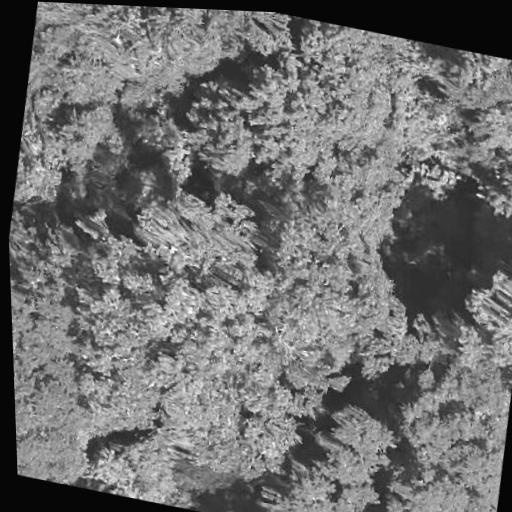tree-top: (257, 190, 430, 422), (233, 10, 420, 191), (111, 247, 274, 426), (52, 2, 253, 115), (118, 64, 264, 200), (391, 345, 512, 504), (123, 170, 275, 294), (66, 322, 172, 441), (13, 342, 98, 487), (306, 394, 403, 501), (8, 95, 85, 218), (79, 423, 190, 507), (46, 91, 133, 194), (447, 252, 512, 377), (9, 241, 81, 347), (427, 44, 512, 117), (248, 444, 339, 512), (378, 466, 500, 512), (8, 204, 45, 281), (480, 146, 512, 230), (325, 506, 410, 512)
